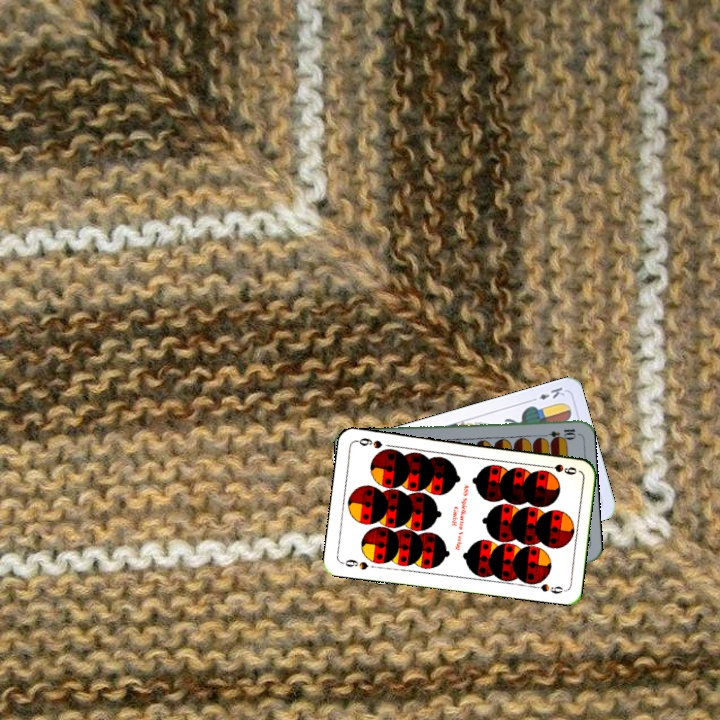E10: (538, 425, 578, 441)
EK: (527, 383, 567, 404)
S9: (540, 460, 579, 477), (338, 555, 371, 572)
